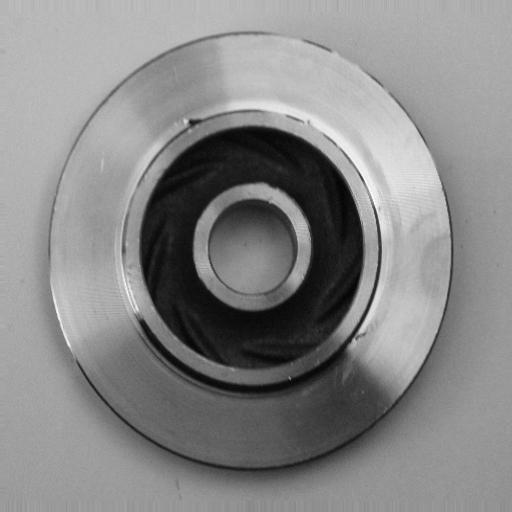crack: (175, 106, 218, 135)
scratch: (109, 248, 149, 324), (338, 321, 368, 392)
unpolished_casting: (45, 26, 458, 476)
